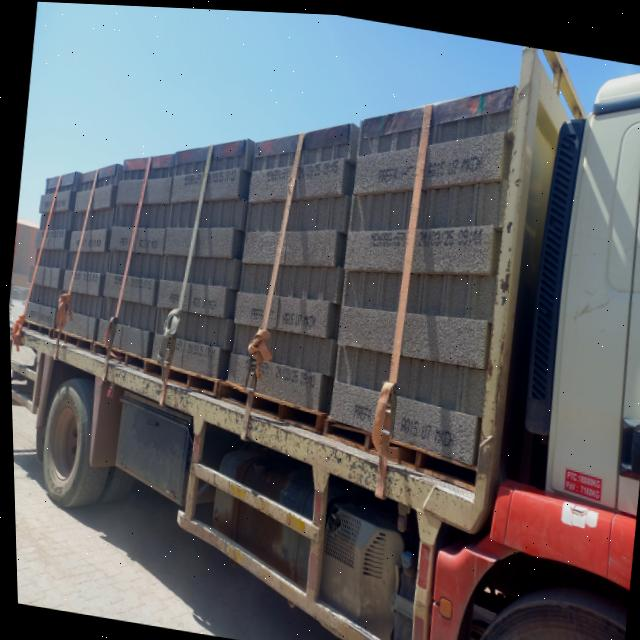bricks: (171, 87, 519, 467), (22, 158, 146, 341), (112, 147, 207, 359)
